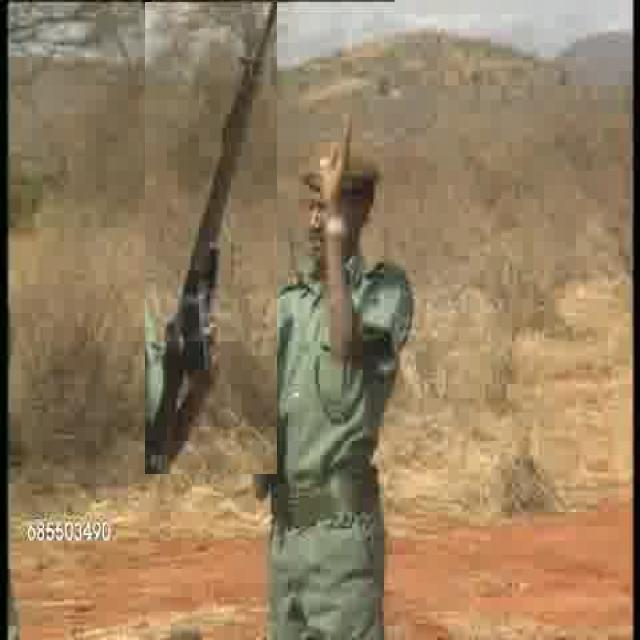poacher: (250, 98, 422, 572)
weapon: (146, 2, 278, 474)
